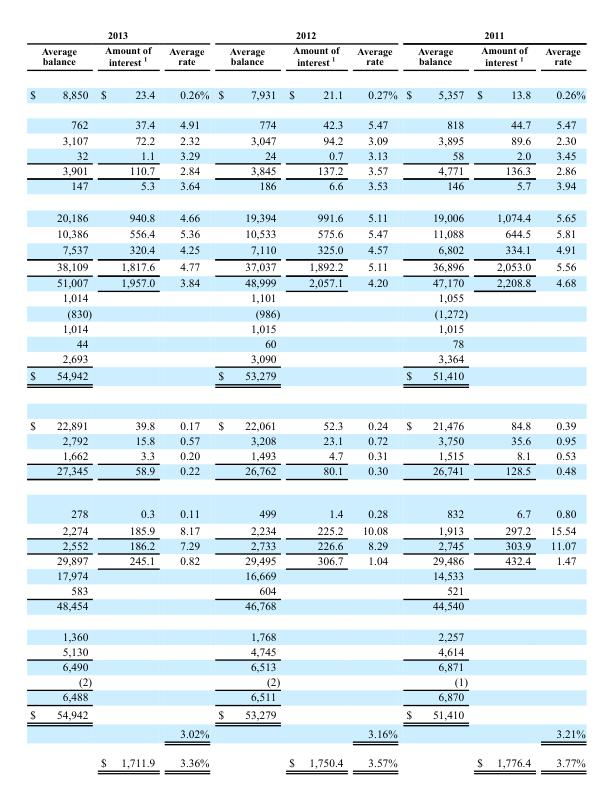table: (29, 28, 584, 768)
table column: (212, 28, 283, 768), (401, 28, 471, 768), (29, 28, 95, 768), (95, 28, 161, 768), (283, 28, 349, 768), (471, 28, 537, 768), (349, 28, 401, 768), (161, 28, 212, 768), (537, 28, 584, 768)
table column header: (29, 28, 584, 77)
table row: (29, 41, 584, 77), (29, 366, 584, 400), (29, 77, 584, 109), (29, 400, 584, 432), (29, 491, 584, 521), (29, 462, 584, 491), (29, 200, 584, 224), (29, 723, 584, 747), (29, 109, 584, 132), (29, 177, 584, 200), (29, 620, 584, 643), (29, 598, 584, 620), (29, 747, 584, 768), (29, 705, 584, 723), (29, 224, 584, 241), (29, 257, 584, 274), (29, 688, 584, 705), (29, 241, 584, 257), (29, 274, 584, 290), (29, 350, 584, 366), (29, 521, 584, 537), (29, 582, 584, 598), (29, 132, 584, 147), (29, 147, 584, 162), (29, 162, 584, 177), (29, 290, 584, 305), (29, 305, 584, 320), (29, 320, 584, 335), (29, 335, 584, 350), (29, 432, 584, 447), (29, 447, 584, 462), (29, 537, 584, 552), (29, 552, 584, 567), (29, 567, 584, 582), (29, 643, 584, 658), (29, 658, 584, 673), (29, 673, 584, 688), (29, 28, 584, 41)
table spanning cell: (212, 28, 401, 41), (29, 28, 212, 41), (401, 28, 584, 41)
